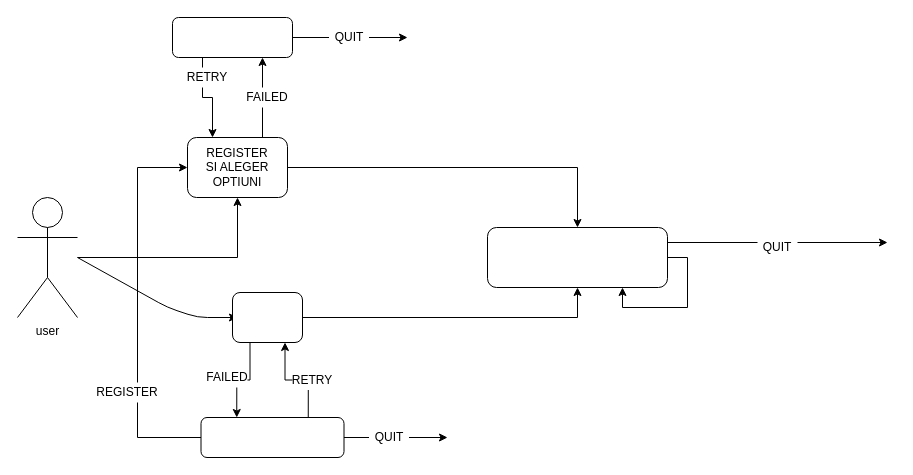
This 913x475 diagram has some shape labels left out. Here are the shapes that lost their labels. From the top down, the centre of each, then its label:
At (x=232, y=37): "Doriti sa reinceracati inregistrarea?".
At (x=577, y=257): "INTRODUCERE EVENIMENT SI PRIMIRE INFORMATII".
At (x=267, y=317): "LOGIN".
At (x=272, y=437): "Doriti sa reinceracati logarea?".
